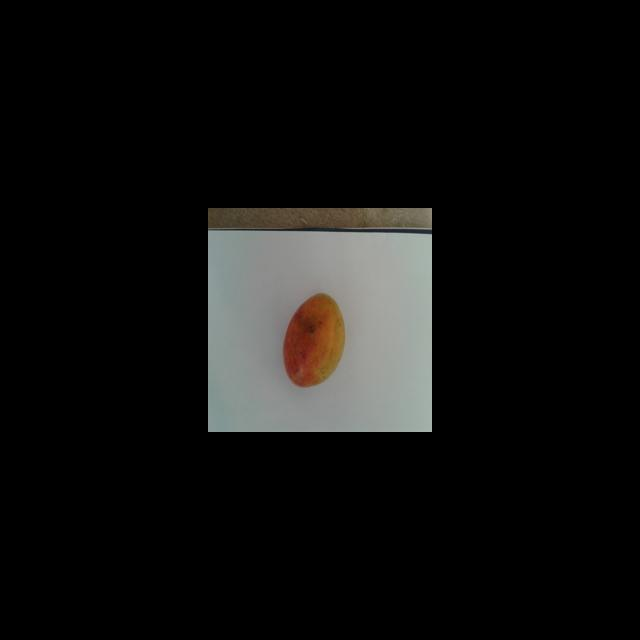Mango: (282, 292, 345, 387)
